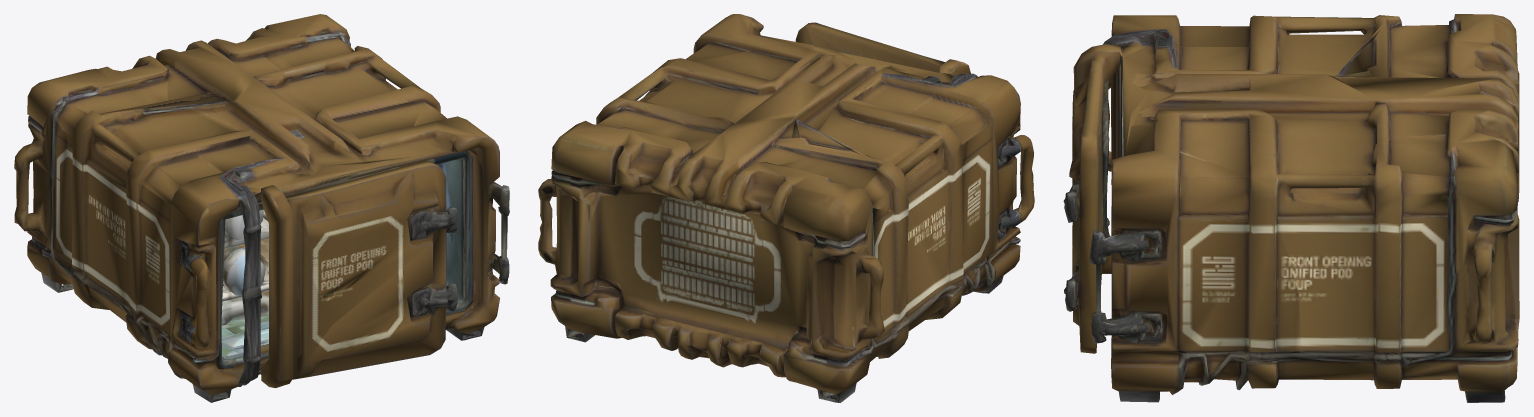
Rendered from Foup.glb.
The picture shows the model from 3 angles, left to right: view 1: azimuth 30°, elevation 25°; view 2: azimuth 150°, elevation 25°; view 3: azimuth 270°, elevation 25°; orthographic projection. The views are drawn at different scales.
Parts seen in each view (by area): view 1: Mesh_0; view 2: Mesh_0; view 3: Mesh_0.
Part boxes in pixels (x1=…): Mesh_0: x1=14, y1=14, x2=509, y2=402; Mesh_0: x1=538, y1=14, x2=1034, y2=402; Mesh_0: x1=1063, y1=14, x2=1519, y2=402.
Bounding box in the file's own units: 1.9 × 1.1 × 1.88.
Materials: 1 (1 with a texture image).
